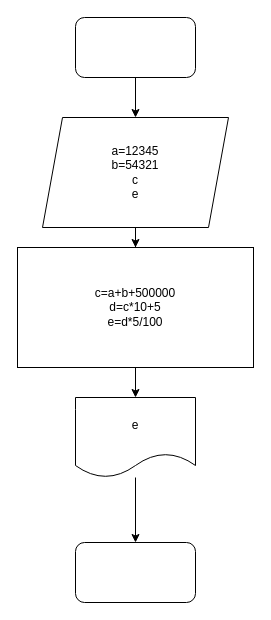
The diagram is 271 pixels wide and 620 high, and some of its shapes have lost their labels. Here are the shapes that lost their labels. From the top down, the box of each, then its label:
(74, 16, 196, 78): programm
(74, 542, 196, 602): finish
